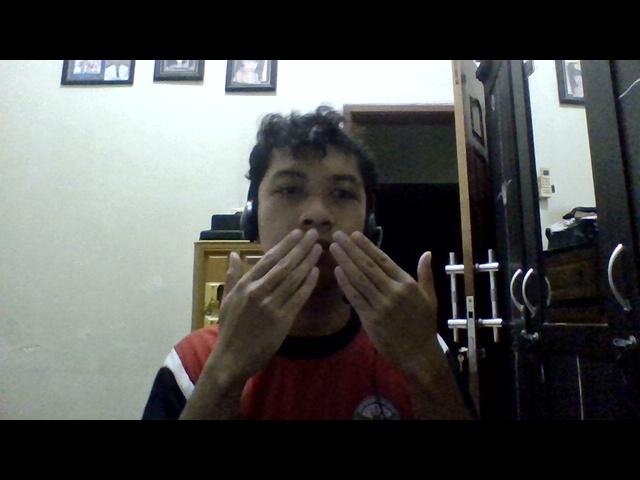thankyou: (178, 210, 471, 393)
